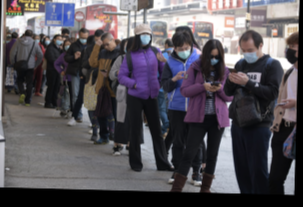with_mask: (239, 45, 259, 63), (285, 41, 298, 65), (175, 44, 191, 59), (207, 52, 221, 66), (139, 32, 151, 46), (78, 35, 87, 44), (54, 37, 62, 46), (62, 42, 70, 50), (43, 37, 50, 46), (32, 37, 41, 44)
without_mask: (101, 40, 113, 51)
